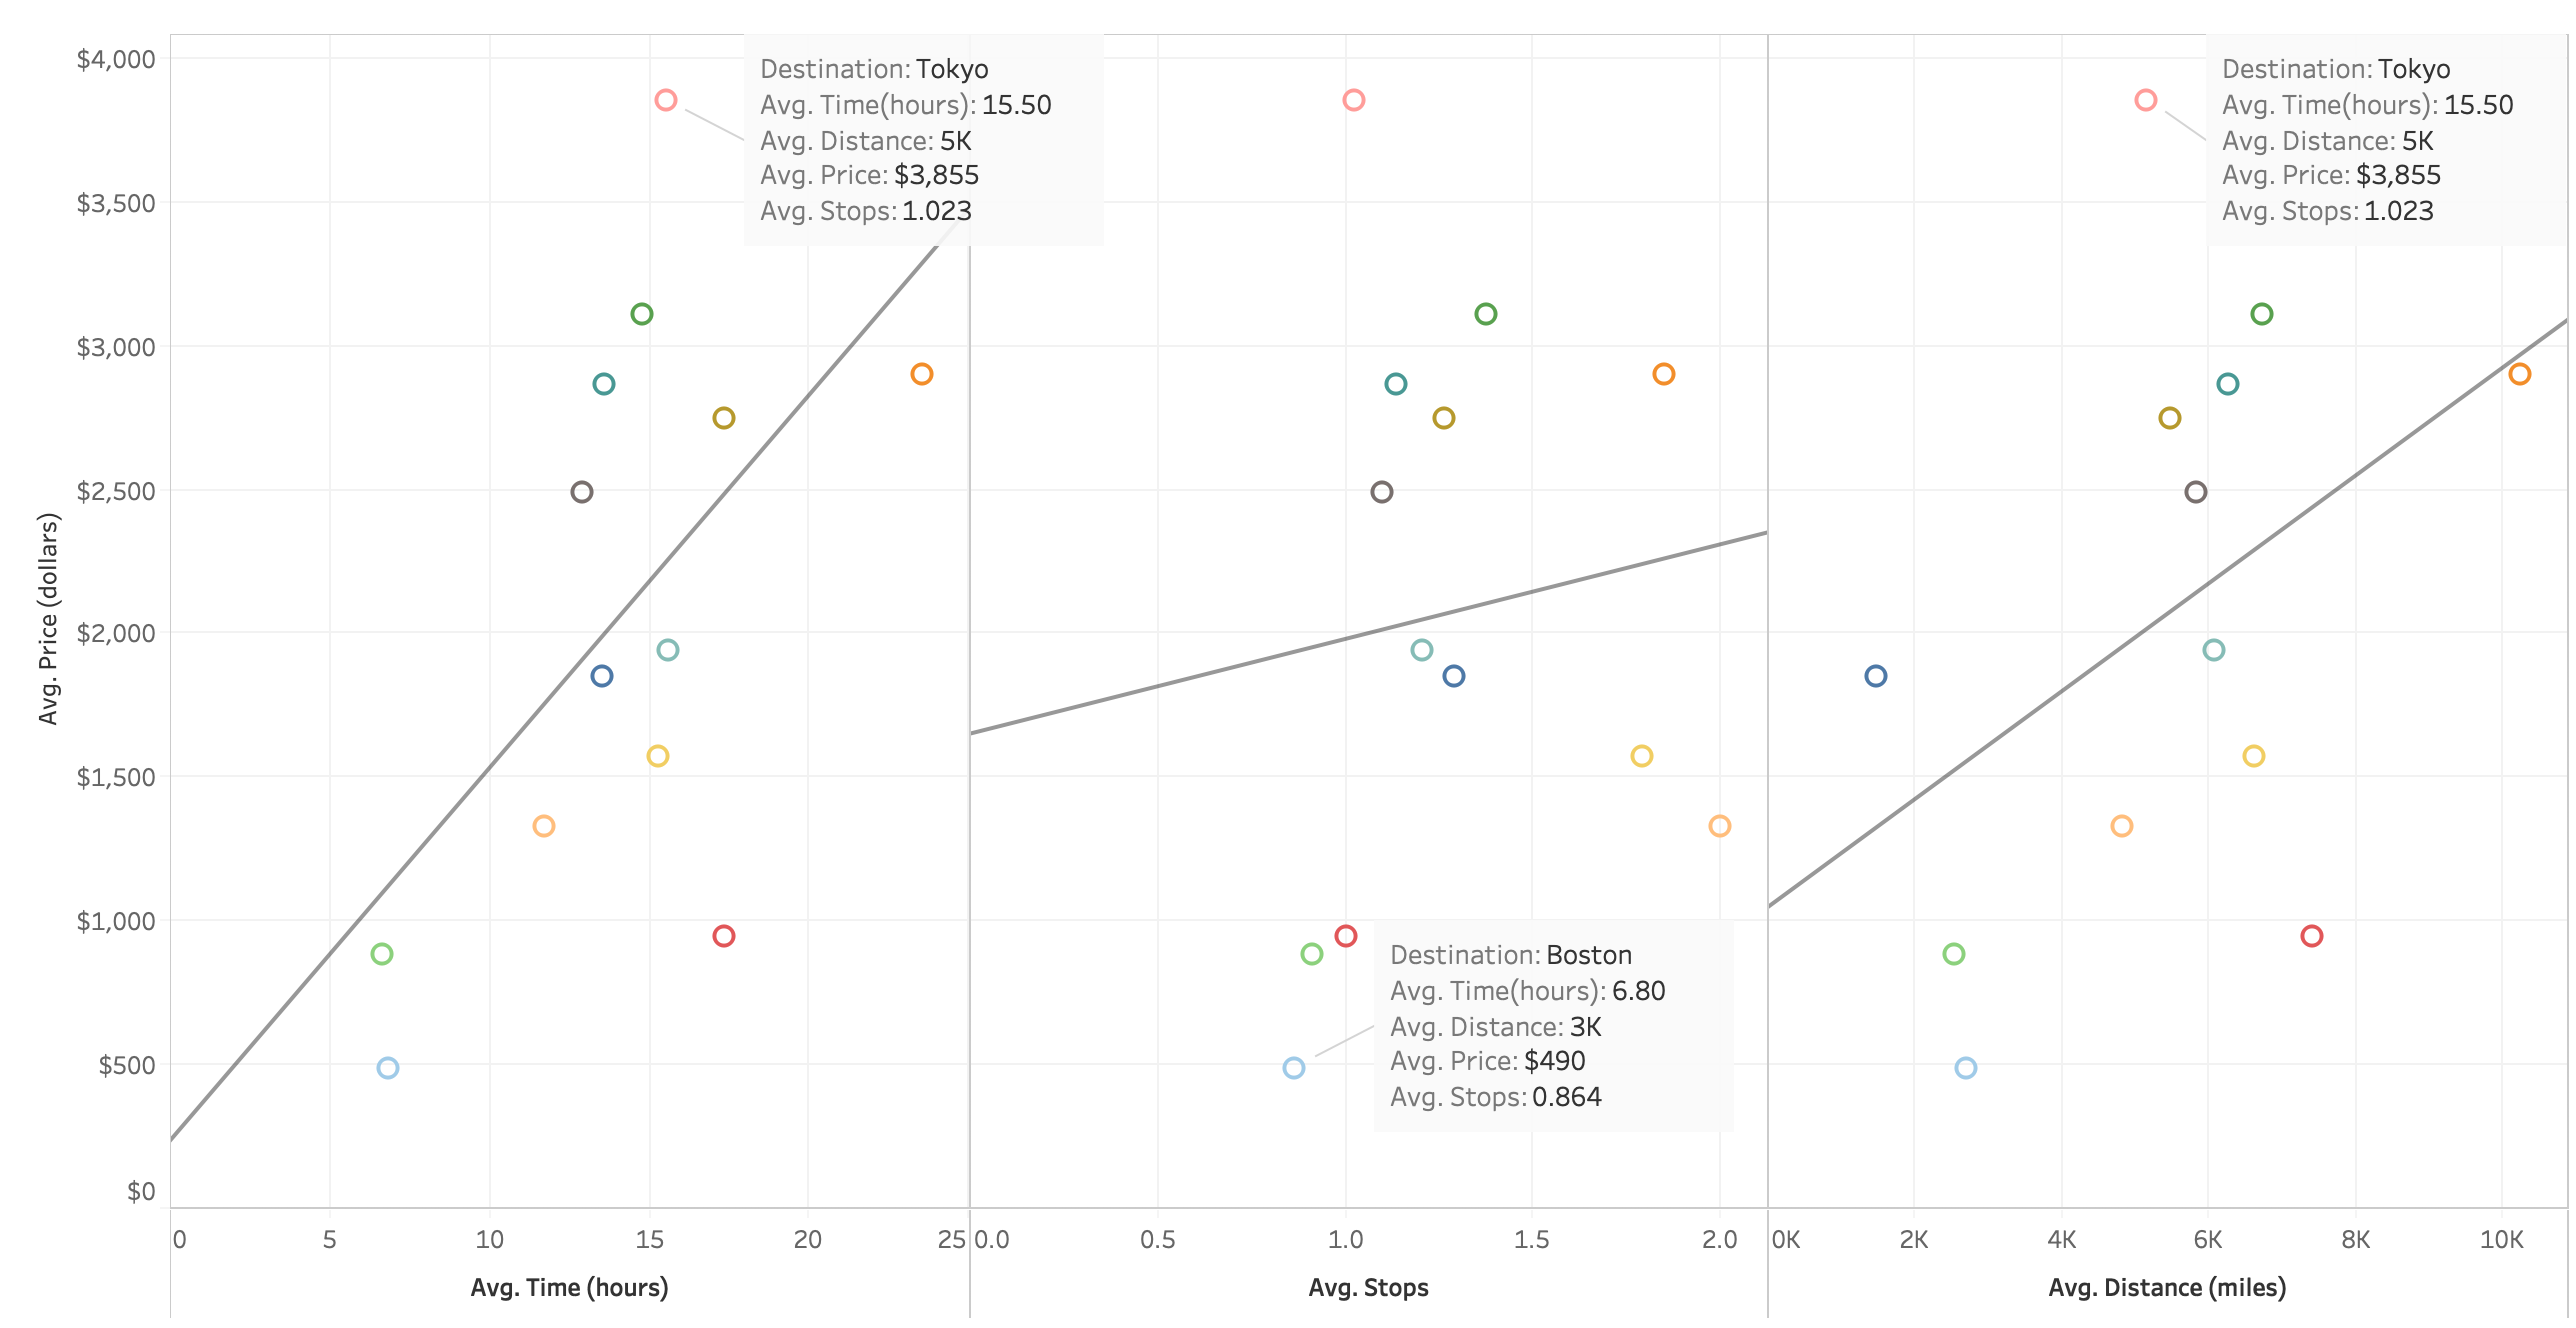

Layout of this report page (visuals, bound fields, positions):
{"tool":"tableau","page":{"name":"Dashboard 1","canvas":[1000,1000],"units":"permille","ordinal":0},"visuals":[{"type":"worksheet","title":"Stops","mark":"Automatic","rows":["arr_city"],"cols":["stops"],"box":[3.2,6.3,496.8,493.7]},{"type":"worksheet","title":"Time","mark":"Circle","rows":["Calculation_1029002213559009280"],"cols":["dept_city"],"box":[500,6.3,496.9,493.7]},{"type":"filter","title":"Stops","param":"[federated.0dj9zyk04oj53v1d40e6o12061wa].[none:arr_city:nk]","box":[906.2,7.1,87,48]},{"type":"legend","title":"Distance","param":"[federated.0dj9zyk04oj53v1d40e6o12061wa].[avg:distance:qk]","box":[370.2,498.8,126.2,37]},{"type":"worksheet","title":"Distance","mark":"Automatic","box":[3.2,500,496.8,493.7]},{"type":"worksheet","title":"Price","mark":"Automatic","rows":["price"],"cols":["arr_city"],"box":[500,500,496.9,493.7]},{"type":"legend","title":"Price","param":"[federated.0dj9zyk04oj53v1d40e6o12061wa].[avg:price:qk]","box":[912.6,548.4,77.1,59.8]}]}

Visuals, with their boxes on the dashboard's canvas, which has no fixed pixel size, in thousandths of its width and height (x1, y1, x2, y2). These are canvas units, not pixel positions in the 2576x1328 screenshot, which may show the page scaled, cropped or inside an application window:
"Stops" worksheet: bbox=(3, 6, 500, 500)
"Time" worksheet (Circle marks): bbox=(500, 6, 997, 500)
"Stops" filter: bbox=(906, 7, 993, 55)
"Distance" legend: bbox=(370, 499, 496, 536)
"Distance" worksheet: bbox=(3, 500, 500, 994)
"Price" worksheet: bbox=(500, 500, 997, 994)
"Price" legend: bbox=(913, 548, 990, 608)
